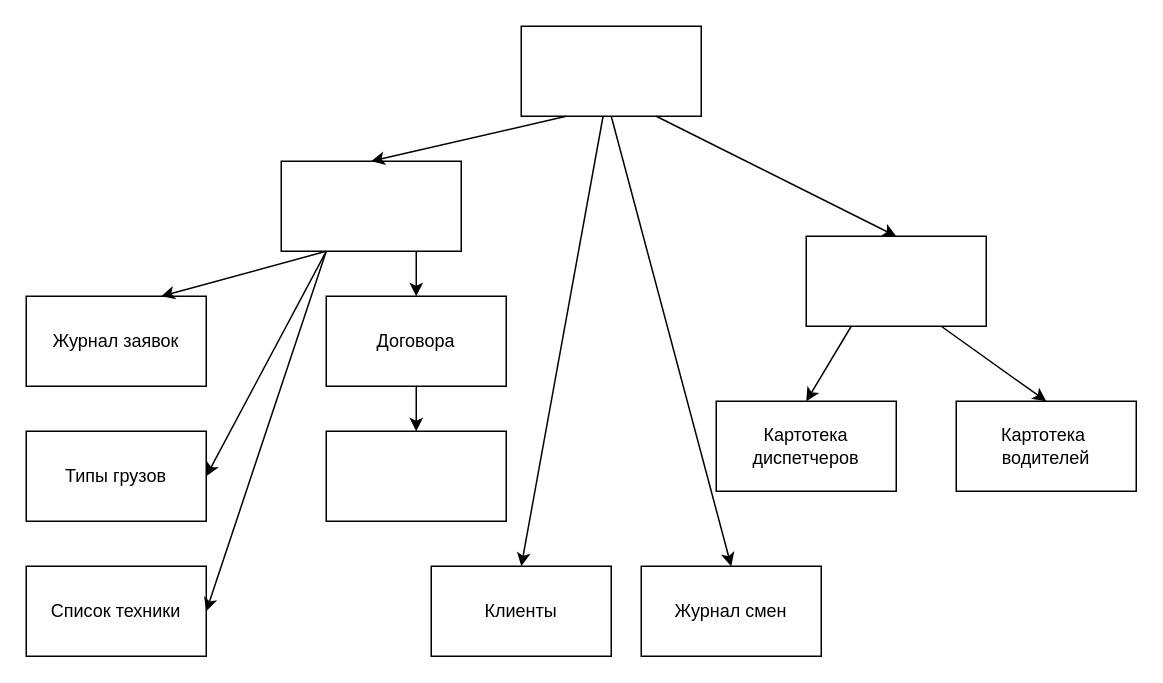
This 1163x683 diagram has some shape labels left out. Each missing label, with the centre of its shape:
Выполнение грузоперевозки: the point at 370,205
Картотека сотрудников: the point at 895,280
Оплата по договору: the point at 415,475
Система планирования грузоперевозок: the point at 610,70
